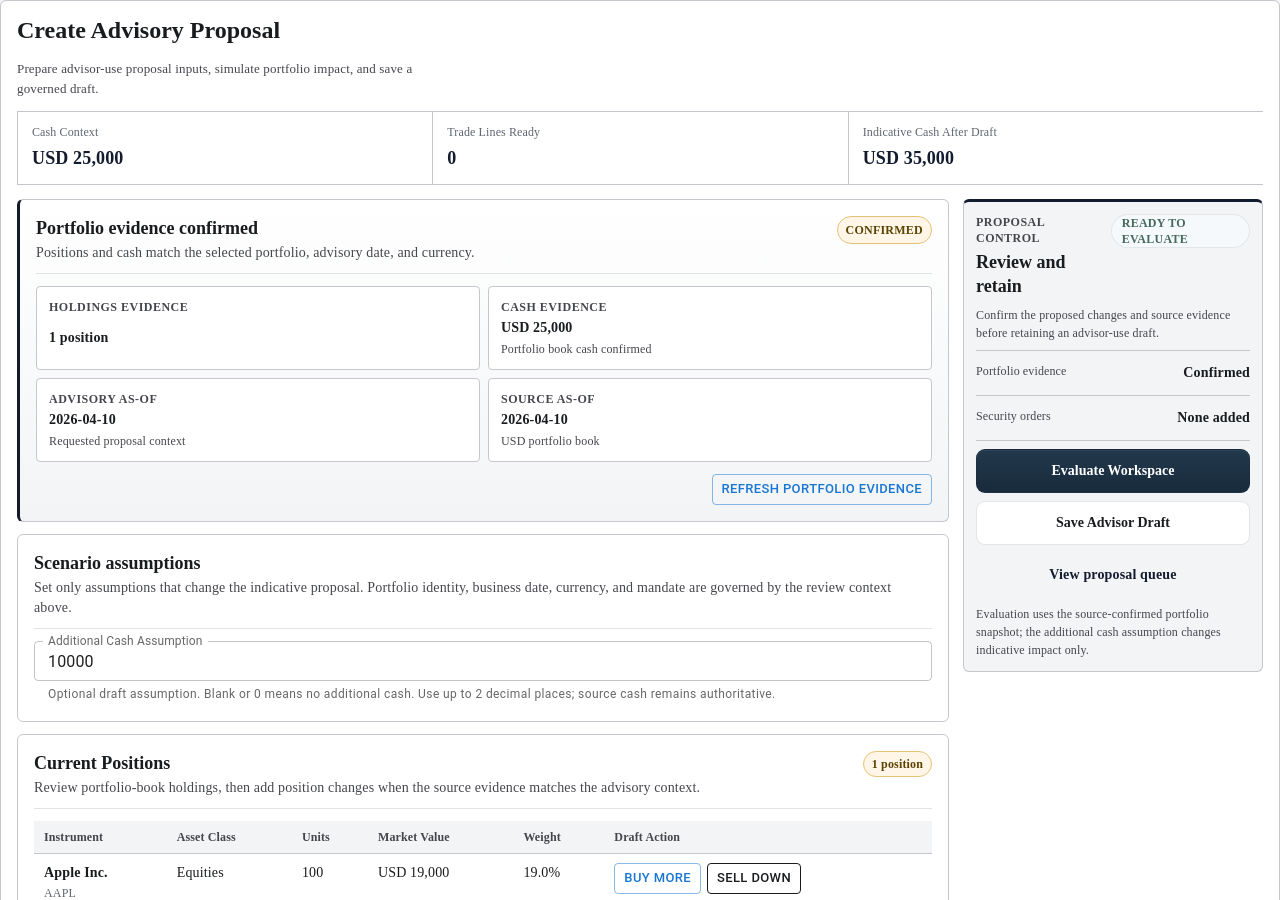
ProposalSimulateForm › withdraws evaluation confirmation before refreshing source portfolio evidence
This screenshot has width=1280, height=900.
Click the button "Evaluate Workspace".
click(1113, 471)  # box 976,449 -> 1250,493
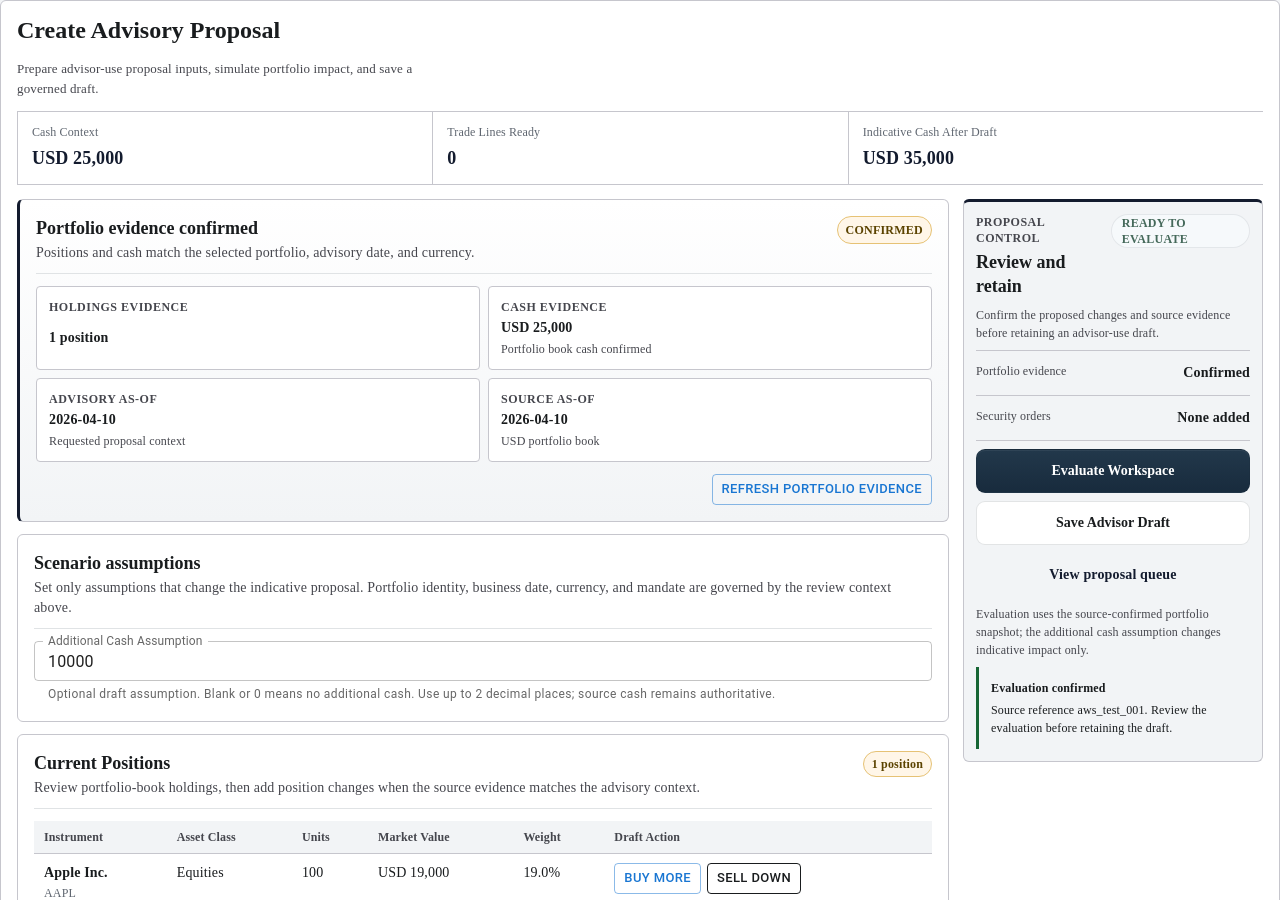
Expected: the text "Evaluation confirmed" is shown, 991,681 -> 1106,695
Click the button "Refresh Portfolio Evidence".
click(822, 490)  # box 712,474 -> 932,505
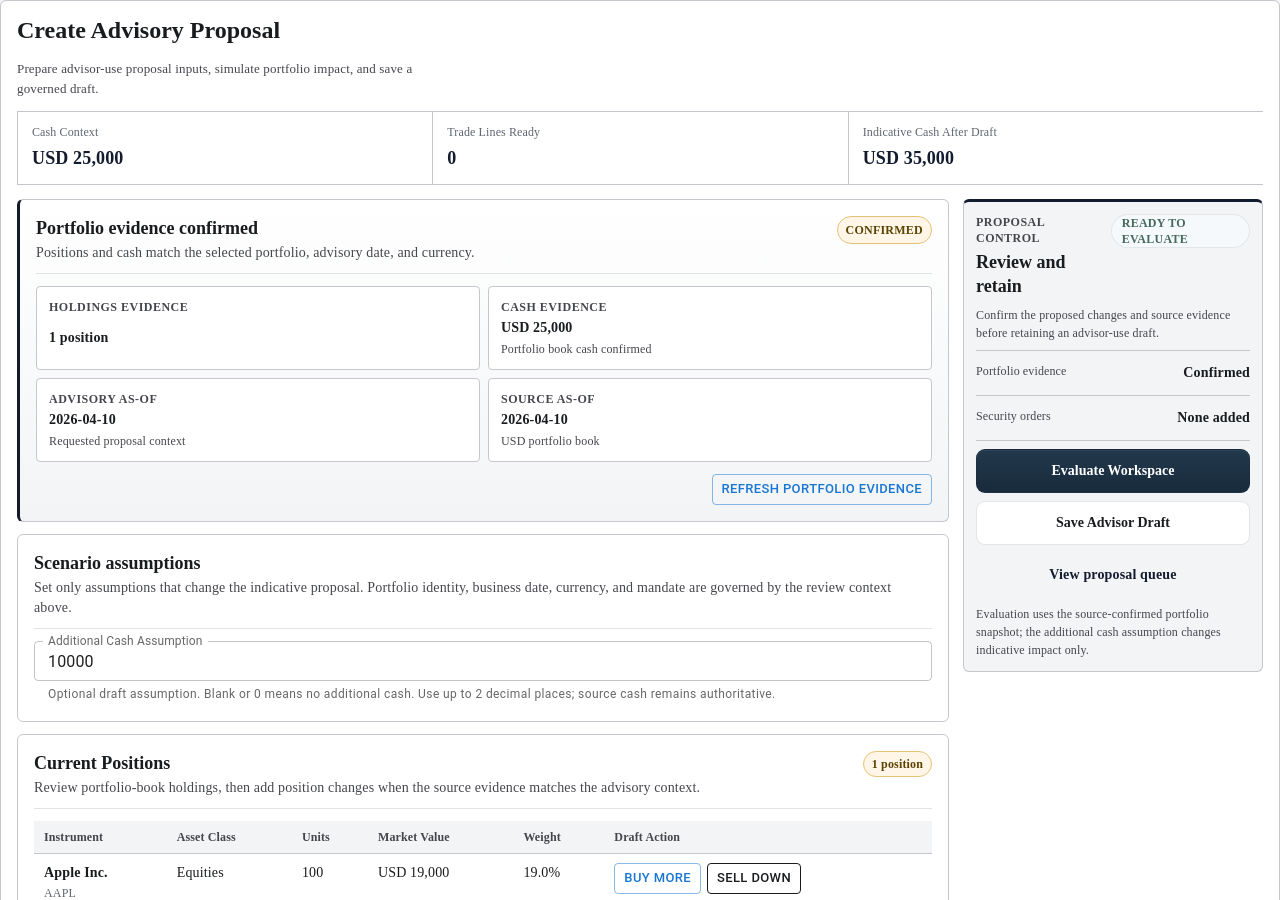
Expected: the text "Evaluation confirmed" is gone
